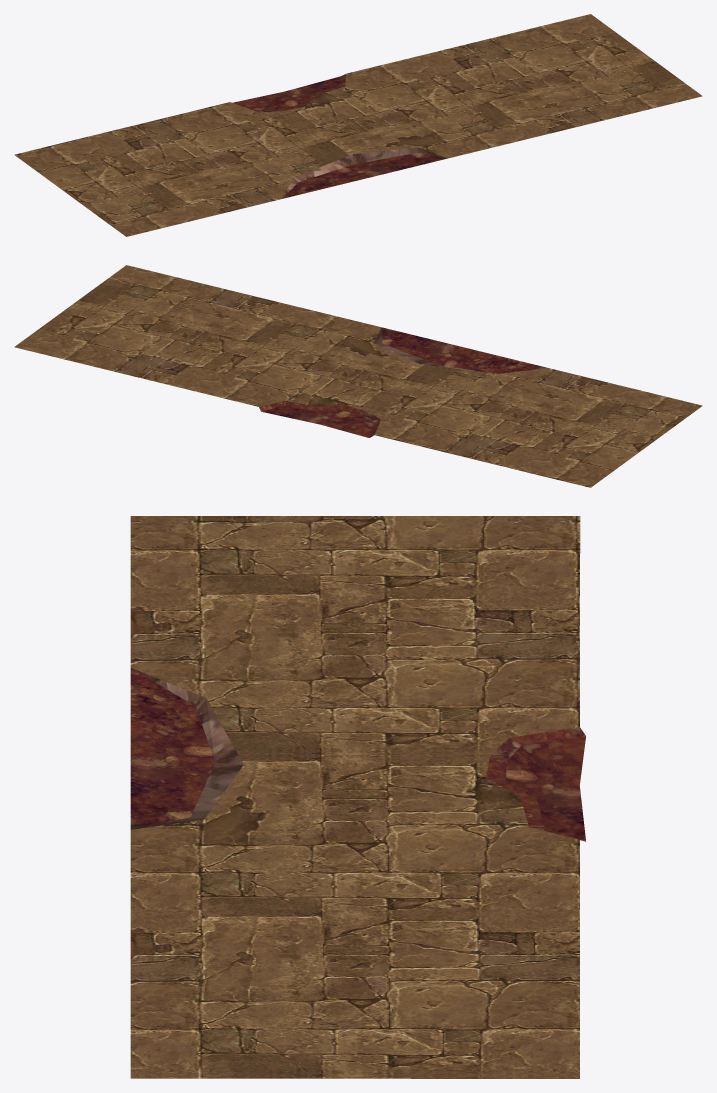
File: Scene_dimian_002_p3.FBX
3 renders of one model, top to bottom at view 1: azimuth 30°, elevation 25°; view 2: azimuth 150°, elevation 25°; view 3: azimuth 270°, elevation 25°, orthographic. The views are drawn at different scales.
Visible parts, largest first — view 1: Scene_dimian_002_p3; view 2: Scene_dimian_002_p3; view 3: Scene_dimian_002_p3.
Boxes of the visible parts, x1,y1,x2,y2 form: Scene_dimian_002_p3: (14,14,702,236); Scene_dimian_002_p3: (14,265,702,487); Scene_dimian_002_p3: (130,516,585,1078).
Bounding box in the file's own units: 28.55 × 0.1631 × 9.76.
